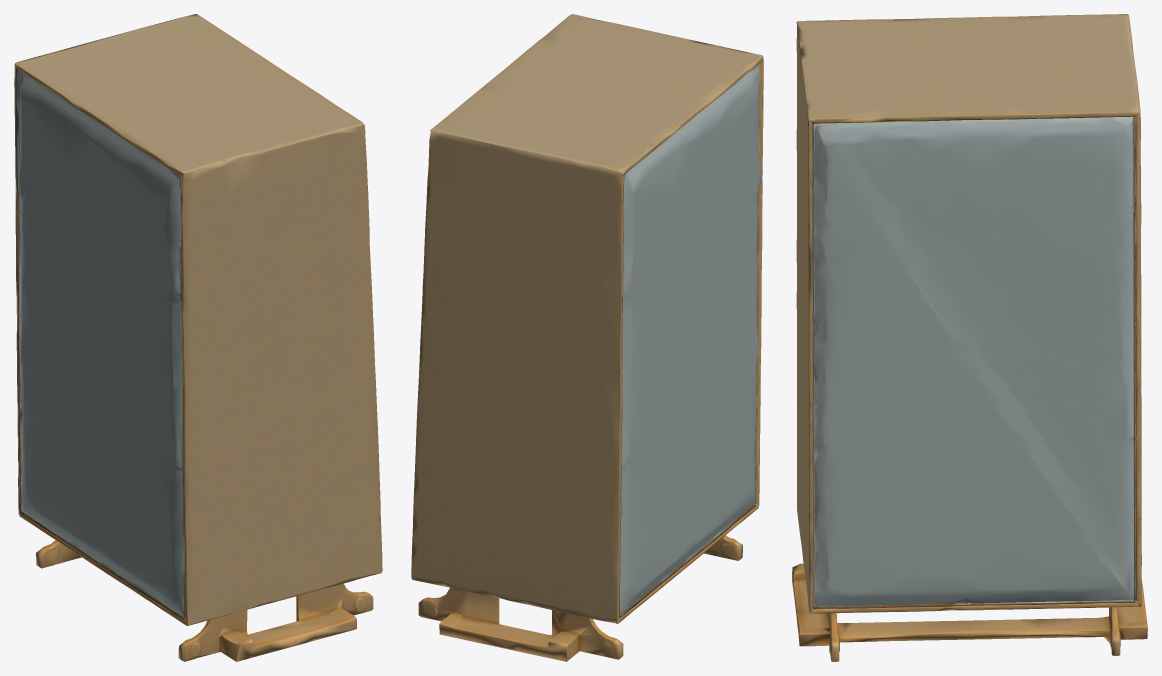
File: mirror.glb
3 renders of one model, left to right at view 1: azimuth 30°, elevation 25°; view 2: azimuth 150°, elevation 25°; view 3: azimuth 270°, elevation 25°, orthographic. The views are drawn at different scales.
Visible parts, largest first — view 1: tripo_node_7375ff9b-6e3c-4f17-859f-fc0ad81ca34e; view 2: tripo_node_7375ff9b-6e3c-4f17-859f-fc0ad81ca34e; view 3: tripo_node_7375ff9b-6e3c-4f17-859f-fc0ad81ca34e.
Boxes of the visible parts, box(x1,y1,x2,y2) form: tripo_node_7375ff9b-6e3c-4f17-859f-fc0ad81ca34e: box(14, 14, 382, 661); tripo_node_7375ff9b-6e3c-4f17-859f-fc0ad81ca34e: box(411, 14, 763, 661); tripo_node_7375ff9b-6e3c-4f17-859f-fc0ad81ca34e: box(792, 14, 1147, 661).
Bounding box in the file's own units: 0.559 × 1.2 × 0.7237.
Materials: 1 (1 with a texture image).
